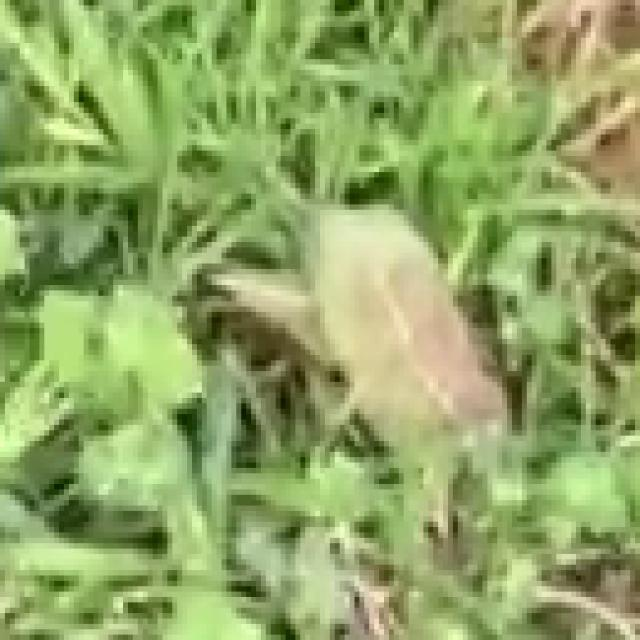organic waste: (167, 102, 581, 592)
